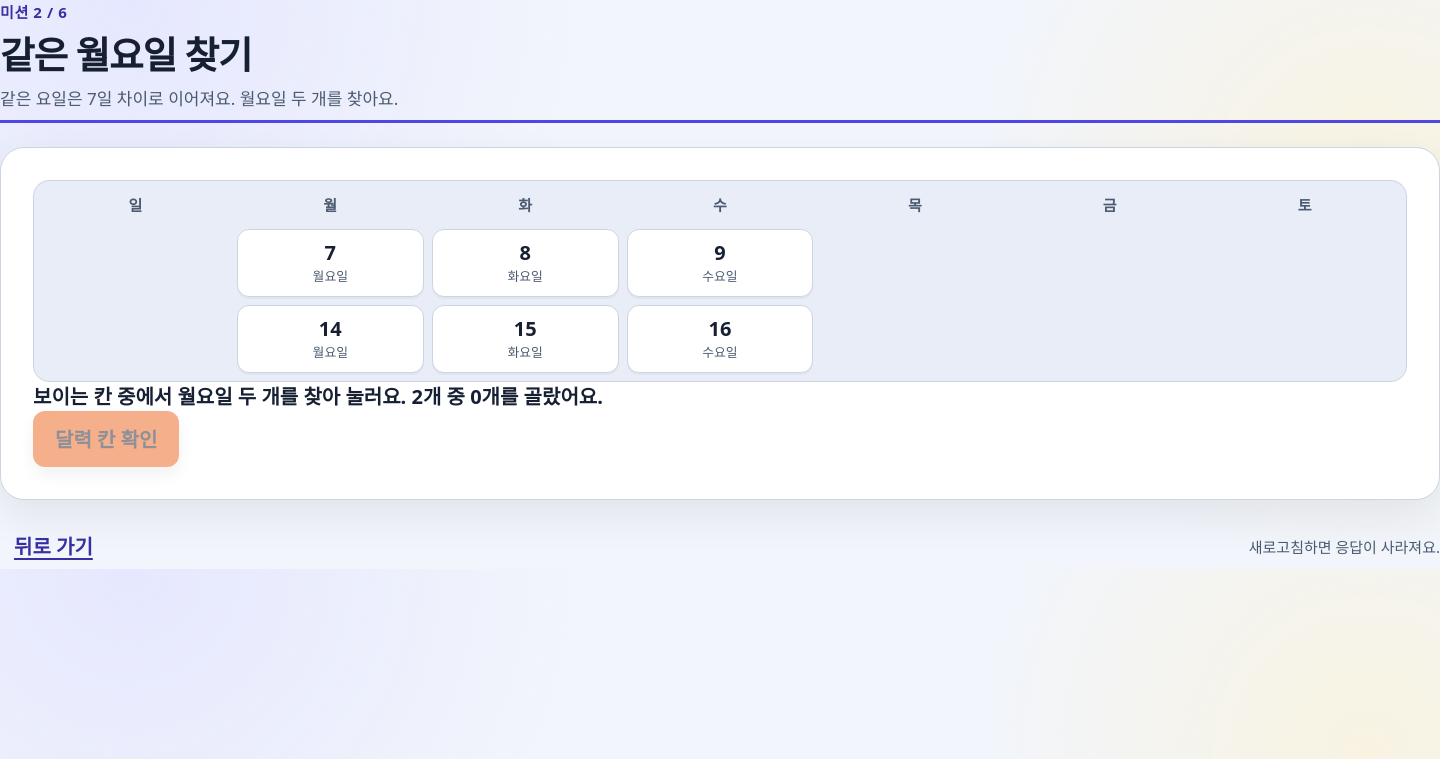
Test: 뒤로 가기 › 뒤로 가기 버튼으로 직전 단계로 돌아간다
This screenshot has width=1440, height=759.
Click the button "뒤로 가기" at (53, 547), box [0,524,107,569]
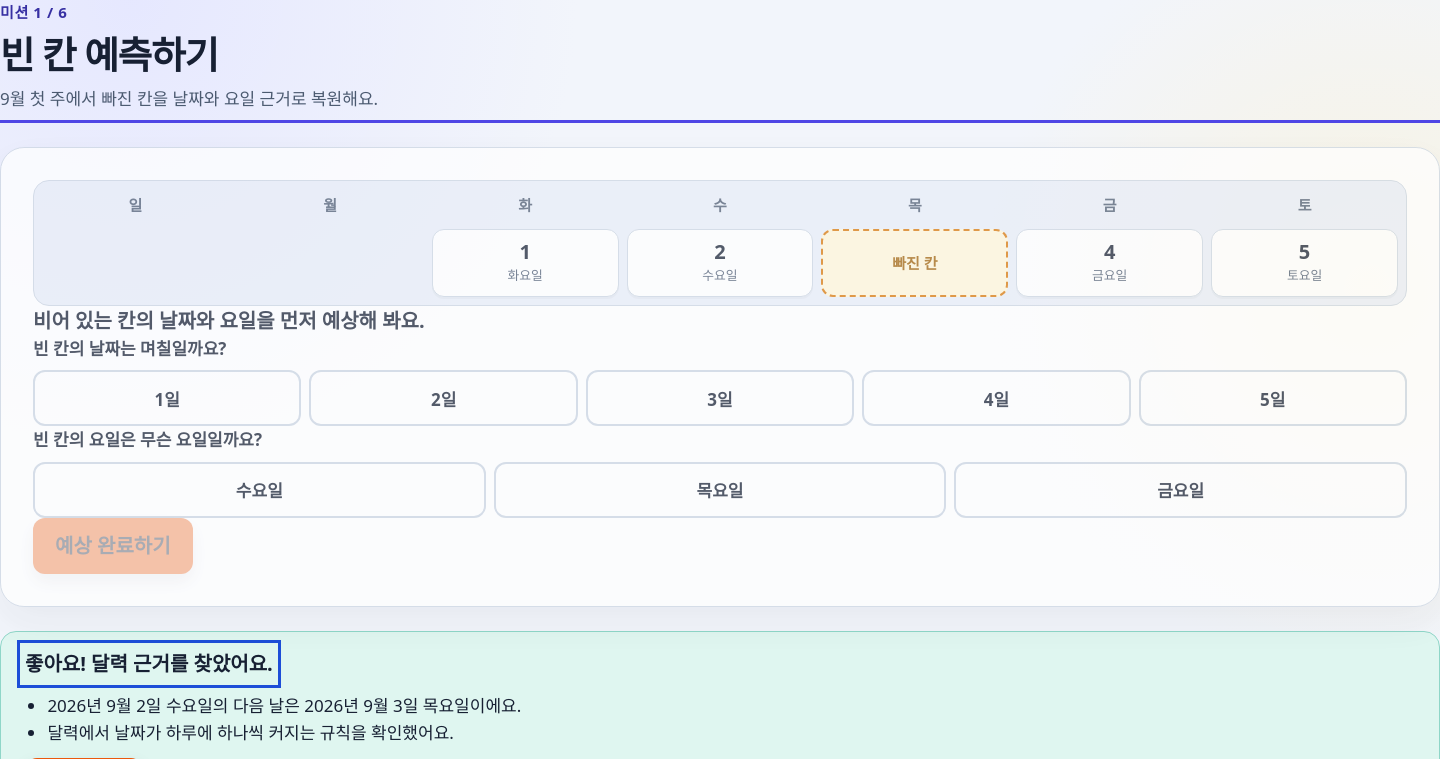
Check: the heading "빈 칸 예측하기" is shown, box [0,29,218,80]
